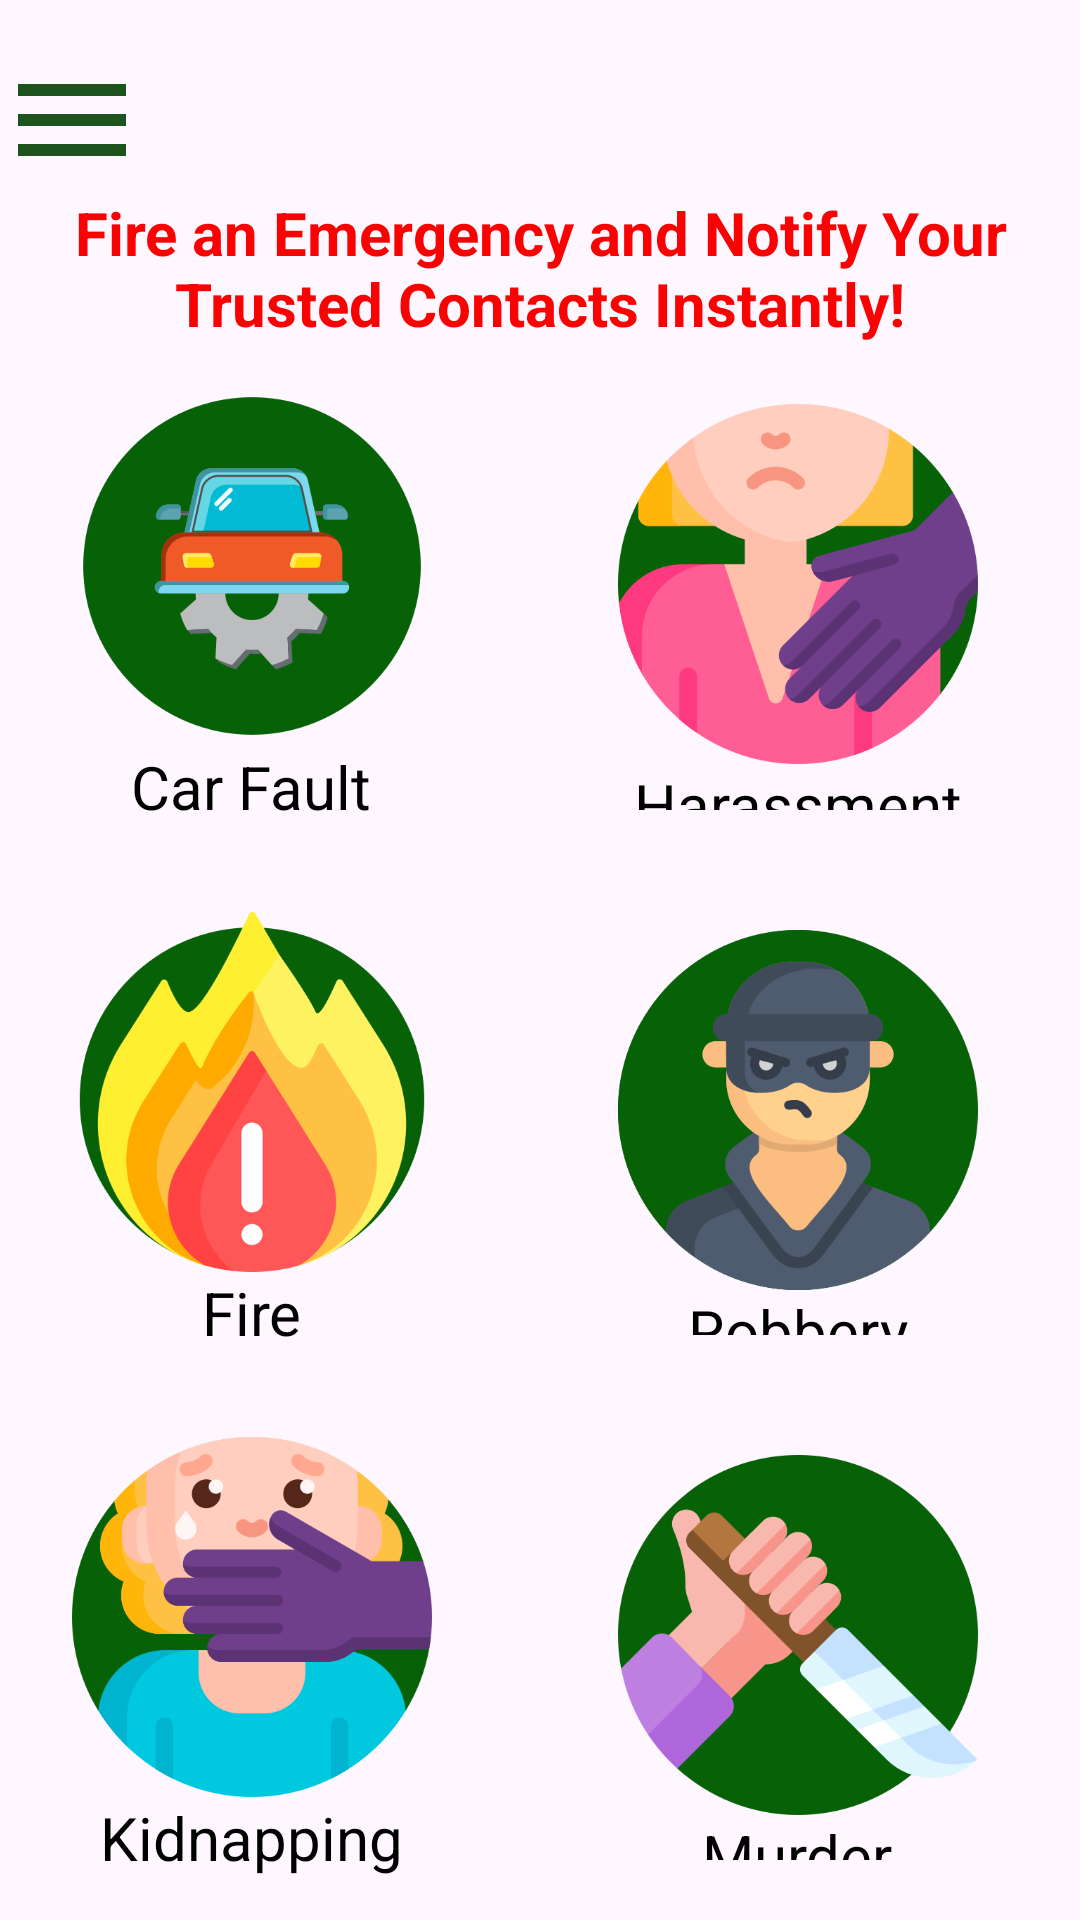

Icons on this 1080 x 1920 Android screen, each with the point to tap as (x=x, y=y):
menu: (x=72, y=120)
